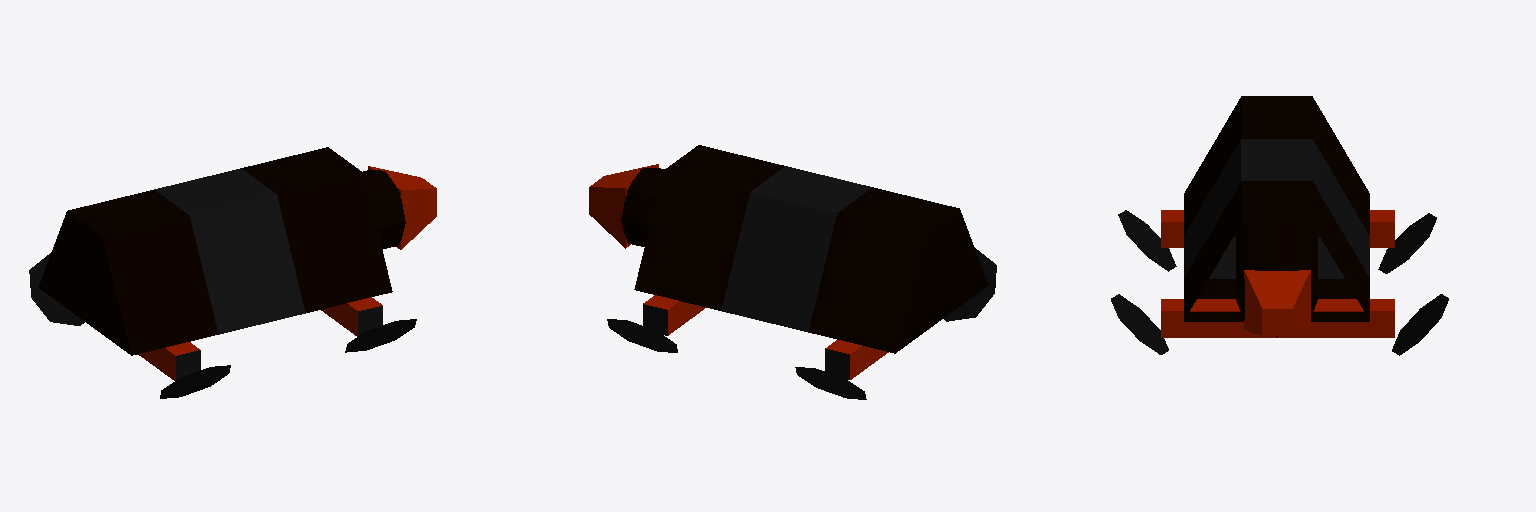
File: heavybatteringram2d.obj
The picture shows the model from 3 angles: view 1: azimuth 30°, elevation 25°; view 2: azimuth 150°, elevation 25°; view 3: azimuth 270°, elevation 25°; orthographic projection.
Parts seen in each view (by area): view 1: Cube, Cube.003, Cube.002, Cube.001, Plane.001, Plane.002, Plane.003; view 2: Cube, Cube.003, Cube.002, Cube.001, Plane, Plane.002, Plane.001; view 3: Cube, Cube.001, Cube.003, Cube.002, Plane.003, Plane.001, Plane, Plane.002.
Boxes of the visible parts, box(x1,y1,x2,y2) form: Cube: box(38, 147, 405, 355); Cube.003: box(368, 166, 436, 249); Cube.002: box(138, 342, 200, 380); Cube.001: box(321, 297, 382, 336); Plane.001: box(29, 253, 84, 325); Plane.002: box(160, 365, 230, 398); Plane.003: box(345, 319, 416, 352); Cube: box(621, 145, 988, 353); Cube.003: box(589, 164, 658, 248); Cube.002: box(825, 340, 888, 379); Cube.001: box(643, 295, 705, 335); Plane: box(607, 319, 677, 352); Plane.002: box(944, 248, 996, 321); Plane.001: box(795, 367, 866, 399); Cube: box(1184, 96, 1369, 336); Cube.001: box(1161, 299, 1394, 337); Cube.003: box(1244, 270, 1310, 335); Cube.002: box(1161, 210, 1394, 247); Plane.003: box(1111, 294, 1168, 354); Plane.001: box(1378, 213, 1436, 273); Plane: box(1392, 294, 1448, 355); Plane.002: box(1118, 210, 1176, 271).
Bounding box in the file's own units: 10.17 × 4.25 × 8.66.